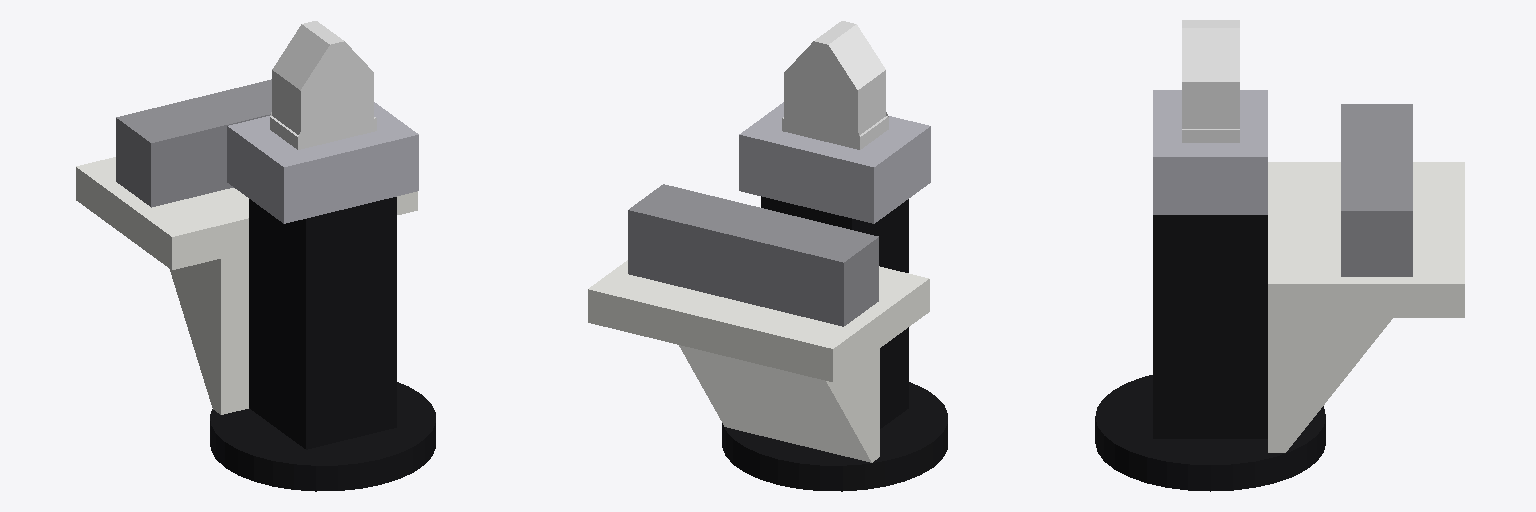
The robot description file, URDF, robot "pgea_100_40_o":
<?xml version="1.0"?>
<robot name="pgea_100_40_o">
  <link name="flange"/>

  <!-- ===== DH Robotics PGEA-100-40-O (measured 2026-11-21; see make_pgea_urdf.py for assumed values) ===== -->
  <material name="pgea_black"><color rgba="0.12 0.12 0.13 1"/></material>
  <material name="pgea_white"><color rgba="0.92 0.92 0.92 1"/></material>
  <material name="pgea_alu"><color rgba="0.75 0.75 0.78 1"/></material>
  <joint name="pgea_mount" type="fixed">
    <origin xyz="0 0 0" rpy="0 0 0"/><parent link="flange"/><child link="pgea_base"/>
  </joint>
  <link name="pgea_base">
    <inertial><origin xyz="0 0 0.065"/><mass value="0.55"/>
      <inertia ixx="0.000755517" ixy="0" ixz="0" iyy="0.000820829" iyz="0" izz="0.000211979"/></inertial>
    <visual name="adapter"><origin xyz="0 0 0.0050"/><geometry><cylinder radius="0.0400" length="0.0100"/></geometry><material name="pgea_black"/></visual>
    <collision name="adapter"><origin xyz="0 0 0.0050"/><geometry><cylinder radius="0.0400" length="0.0100"/></geometry></collision>
    <visual name="body"><origin xyz="0 0 0.0550"/><geometry><box size="0.0370 0.0400 0.0900"/></geometry><material name="pgea_black"/></visual>
    <collision name="body"><origin xyz="0 0 0.0550"/><geometry><box size="0.0370 0.0400 0.0900"/></geometry></collision>
    <visual name="housing"><origin xyz="0 0 0.1110"/><geometry><box size="0.0550 0.0400 0.0220"/></geometry><material name="pgea_alu"/></visual>
    <collision name="housing"><origin xyz="0 0 0.1110"/><geometry><box size="0.0550 0.0400 0.0220"/></geometry></collision>
  </link>
  <link name="finger_left">
    <inertial><origin xyz="0.0080 0 0.019"/><mass value="0.03"/>
      <inertia ixx="4.61e-06" ixy="0" ixz="0" iyy="4.25e-06" iyz="0" izz="1.64e-06"/></inertial>
    <visual><geometry><mesh filename="../meshes/finger_left.stl"/></geometry><material name="pgea_white"/></visual>
    <collision><geometry><mesh filename="../meshes/finger_left.stl"/></geometry></collision>
  </link>
  <joint name="finger_left_joint" type="prismatic">
    <origin xyz="0 0 0.1220" rpy="0 0 0"/><parent link="pgea_base"/><child link="finger_left"/>
    <axis xyz="1 0 0"/><limit lower="0" upper="0.0220" effort="100" velocity="0.05"/>
  </joint>
  <link name="finger_right">
    <inertial><origin xyz="-0.0080 0 0.019"/><mass value="0.03"/>
      <inertia ixx="4.61e-06" ixy="0" ixz="0" iyy="4.25e-06" iyz="0" izz="1.64e-06"/></inertial>
    <visual><geometry><mesh filename="../meshes/finger_right.stl"/></geometry><material name="pgea_white"/></visual>
    <collision><geometry><mesh filename="../meshes/finger_right.stl"/></geometry></collision>
  </link>
  <joint name="finger_right_joint" type="prismatic">
    <origin xyz="0 0 0.1220" rpy="0 0 0"/><parent link="pgea_base"/><child link="finger_right"/>
    <axis xyz="-1 0 0"/><limit lower="0" upper="0.0220" effort="100" velocity="0.05"/>
  </joint>
  <!-- TCP = fingertip centre, FR5 tool 1 (0, 0, 160) -->
  <link name="tcp"/>
  <joint name="tcp_joint" type="fixed">
    <origin xyz="0 0 0.1600" rpy="0 0 0"/><parent link="pgea_base"/><child link="tcp"/>
  </joint>
  <!-- ===== D435 bracket (3D printed, measured 2026-11-24) + RealSense D435 ===== -->
  <material name="bracket_white"><color rgba="0.96 0.96 0.94 1"/></material>
  <material name="d435_gray"><color rgba="0.62 0.62 0.64 1"/></material>
  <link name="d435_bracket">
    <inertial><origin xyz="0 0.045 0.070"/><mass value="0.08"/>
      <inertia ixx="5e-5" ixy="0" ixz="0" iyy="5e-5" iyz="0" izz="5e-5"/></inertial>
    <visual name="wall"><origin xyz="0.0000 0.0230 0.0470"/><geometry><box size="0.0600 0.0060 0.0740"/></geometry><material name="bracket_white"/></visual>
    <collision name="wall"><origin xyz="0.0000 0.0230 0.0470"/><geometry><box size="0.0600 0.0060 0.0740"/></geometry></collision>
    <visual name="plate"><origin xyz="0.0000 0.0540 0.0775"/><geometry><box size="0.1000 0.0680 0.0130"/></geometry><material name="bracket_white"/></visual>
    <collision name="plate"><origin xyz="0.0000 0.0540 0.0775"/><geometry><box size="0.1000 0.0680 0.0130"/></geometry></collision>
    <visual name="gusset"><geometry><mesh filename="../meshes/bracket_gusset.stl"/></geometry><material name="bracket_white"/></visual>
    <collision name="gusset"><geometry><mesh filename="../meshes/bracket_gusset.stl"/></geometry></collision>
  </link>
  <joint name="d435_bracket_joint" type="fixed">
    <origin xyz="0 0 0" rpy="0 0 0"/><parent link="pgea_base"/><child link="d435_bracket"/>
  </joint>
  <!-- d435_link = camera body centre; long axis along tool X -->
  <link name="d435_link">
    <inertial><origin xyz="0 0 0"/><mass value="0.072"/>
      <inertia ixx="7.5e-06" ixy="0" ixz="0" iyy="5.0214e-05" iyz="0" izz="5.0214e-05"/></inertial>
    <visual name="body"><origin xyz="0.0000 0.0000 0.0000"/><geometry><box size="0.0880 0.0250 0.0250"/></geometry><material name="d435_gray"/></visual>
    <collision name="body"><origin xyz="0.0000 0.0000 0.0000"/><geometry><box size="0.0880 0.0250 0.0250"/></geometry></collision>
  </link>
  <joint name="d435_joint" type="fixed">
    <origin xyz="0 0.0575 0.0965" rpy="0 0 0"/><parent link="pgea_base"/><child link="d435_link"/>
  </joint>
  <!-- optical frame (REP-103 optical: +Z out of the lens = tool +Z, down) at the lens face centre.
       The real depth origin is the left IR imager, ~17.5 mm off centre along X: calibrate hand-eye before use. -->
  <link name="d435_optical_frame"/>
  <joint name="d435_optical_joint" type="fixed">
    <origin xyz="0 0 0.0125" rpy="0 0 0"/><parent link="d435_link"/><child link="d435_optical_frame"/>
  </joint>
</robot>

--- What the picture shows (computed from the rendered views, not written in the file) ---
The picture shows the robot from 3 angles, left to right: view 1: azimuth 30°, elevation 25°; view 2: azimuth 150°, elevation 25°; view 3: azimuth 270°, elevation 25°; orthographic projection.
Model pgea_100_40_o with 8 links and 7 joints (2 prismatic, 5 fixed), rooted at flange, posed every joint at zero.
Links seen in each view (by area): view 1: pgea_base, d435_bracket, d435_link, finger_right, finger_left; view 2: d435_bracket, pgea_base, d435_link, finger_right, finger_left; view 3: pgea_base, d435_bracket, d435_link, finger_left.
Boxes of the visible links, bbox=[...] form: pgea_base: bbox=[210, 102, 435, 491]; d435_bracket: bbox=[76, 157, 417, 414]; d435_link: bbox=[116, 79, 271, 207]; finger_right: bbox=[270, 22, 336, 149]; finger_left: bbox=[309, 21, 376, 140]; d435_bracket: bbox=[588, 260, 929, 462]; pgea_base: bbox=[722, 102, 947, 491]; d435_link: bbox=[628, 184, 878, 326]; finger_right: bbox=[821, 22, 888, 149]; finger_left: bbox=[782, 21, 848, 140]; pgea_base: bbox=[1095, 90, 1325, 491]; d435_bracket: bbox=[1268, 162, 1464, 452]; d435_link: bbox=[1341, 104, 1412, 276]; finger_left: bbox=[1182, 24, 1239, 142].
Bounding box of the posed robot: 0.1 × 0.128 × 0.16 m (x, y, z).
3 mesh visuals loaded from 3 distinct referenced files (3 binary STL).
